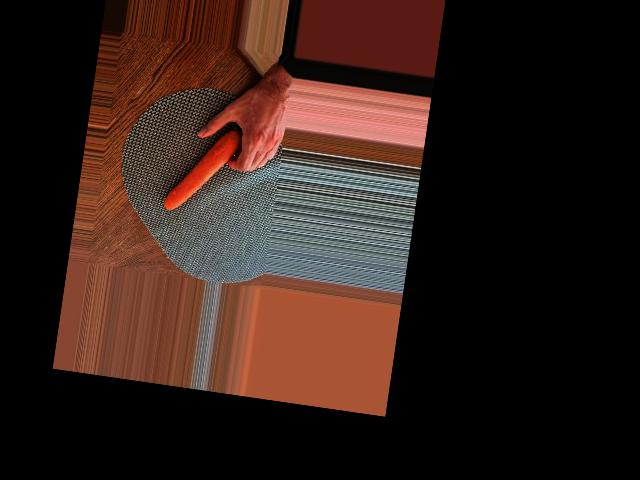carrot: (163, 121, 240, 216)
